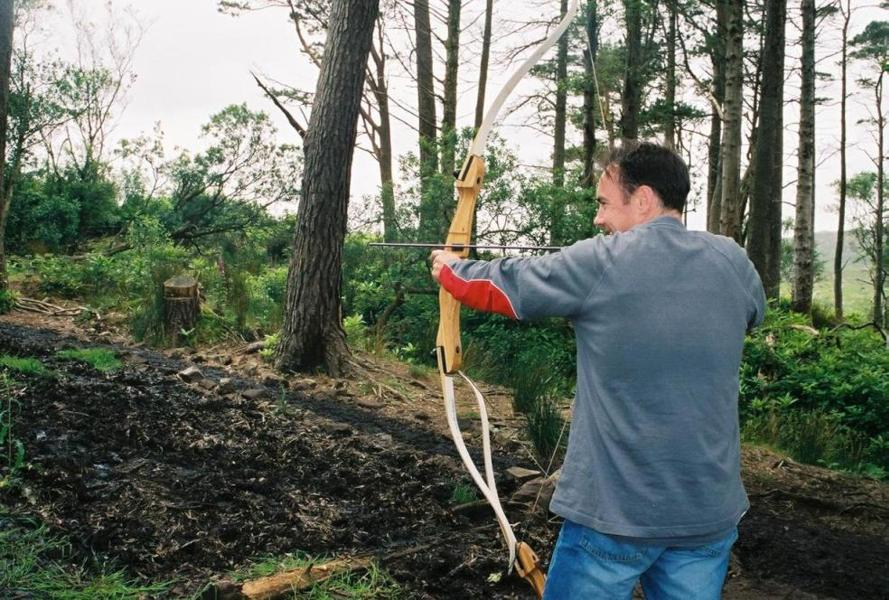person: (434, 147, 777, 600)
